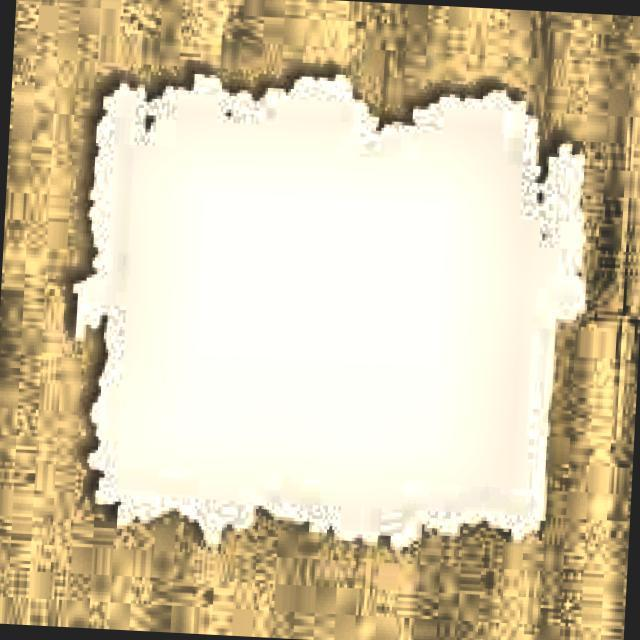cardboard: (57, 62, 598, 570)
